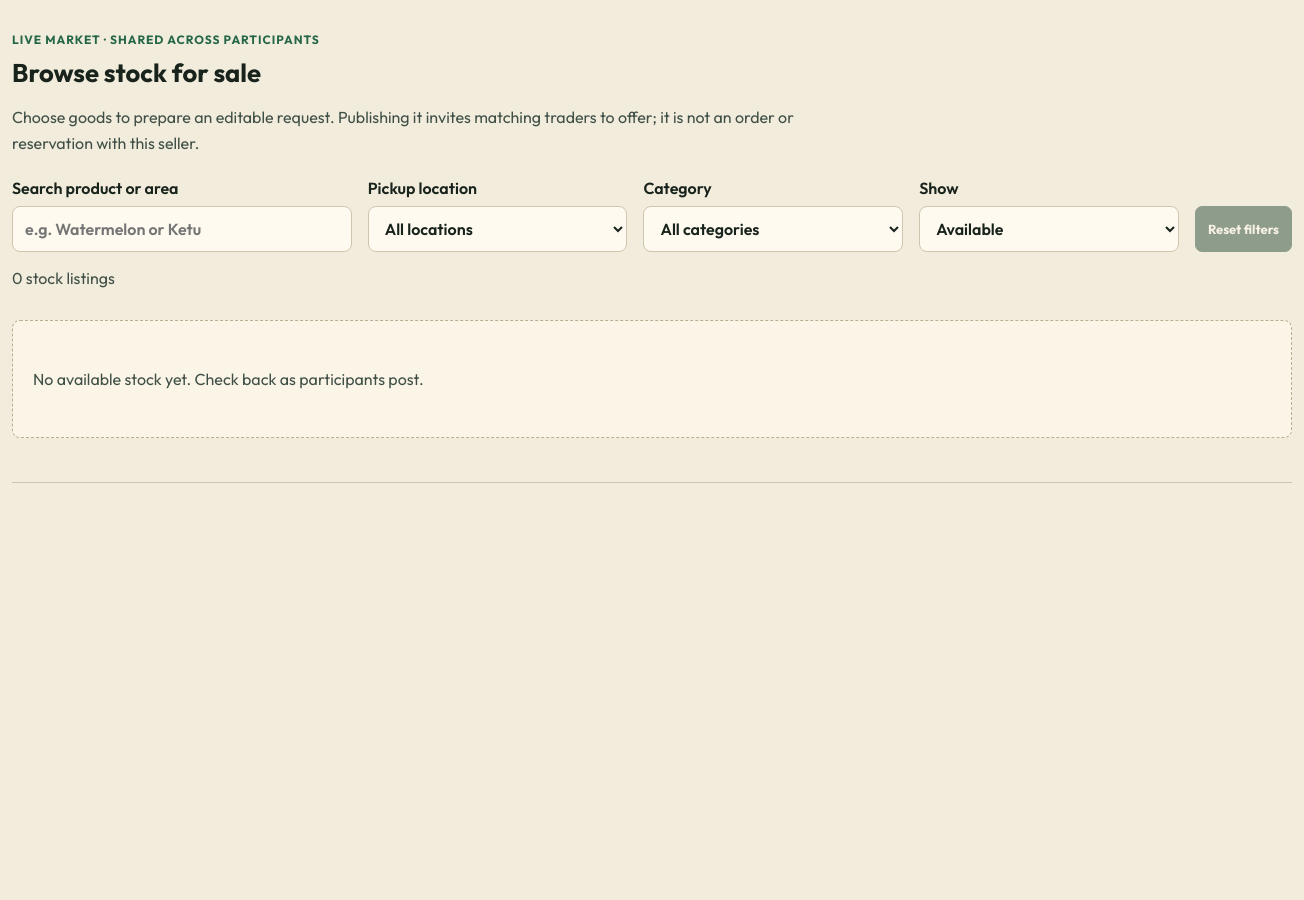
Test: subtracts accepted reservations, not sent offers, and exposes closed listings without purchase actions
Check: the button "Prepare request" is not shown
Select "Closed" in the dropdown labelled "Show" at [1049, 229], box [919,206,1179,252]
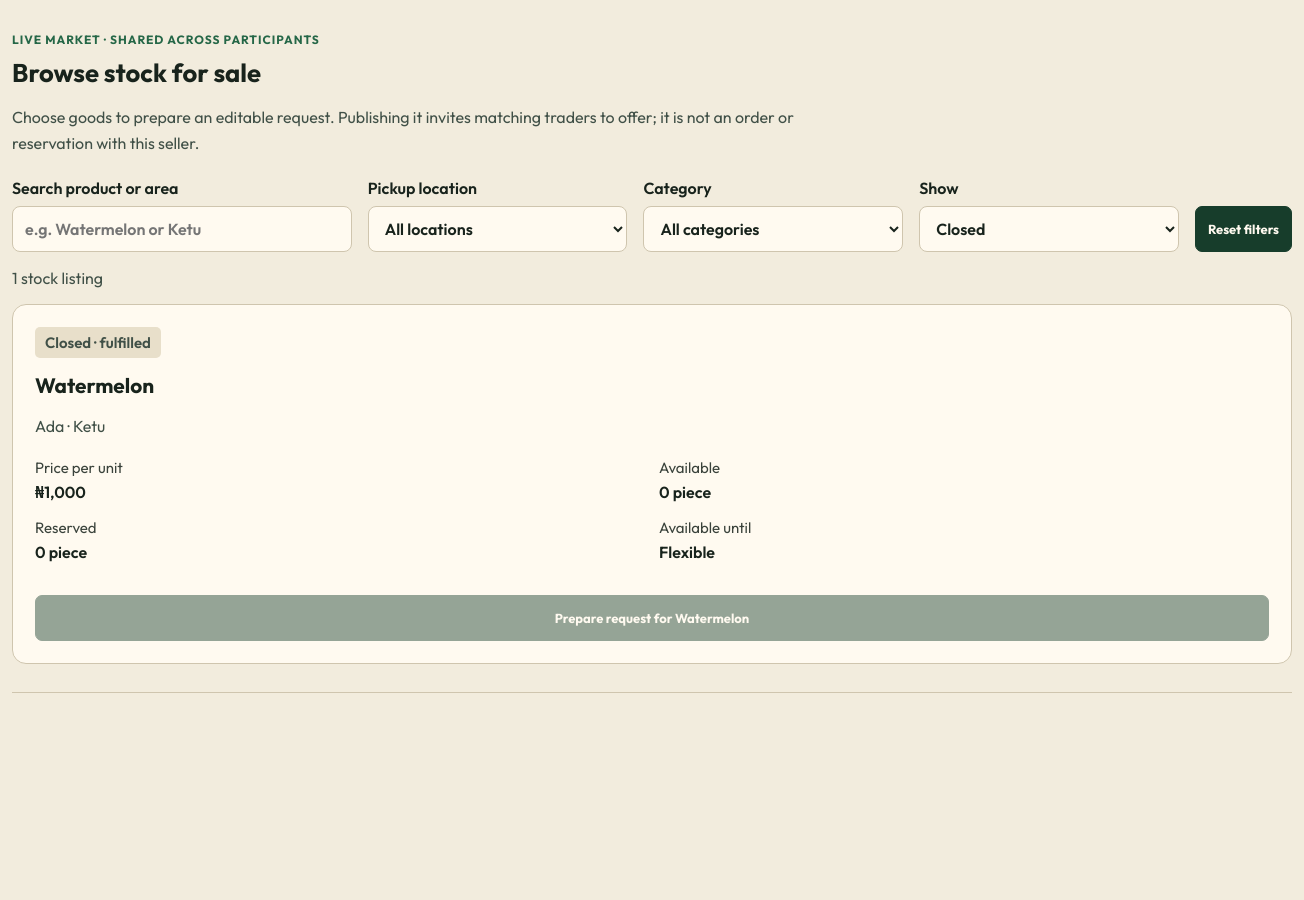
Check: the text "Closed · fulfilled" is shown, box [35,327,161,358]
Check: the button "Prepare request for Watermelon" is disabled, box [35,595,1269,641]
